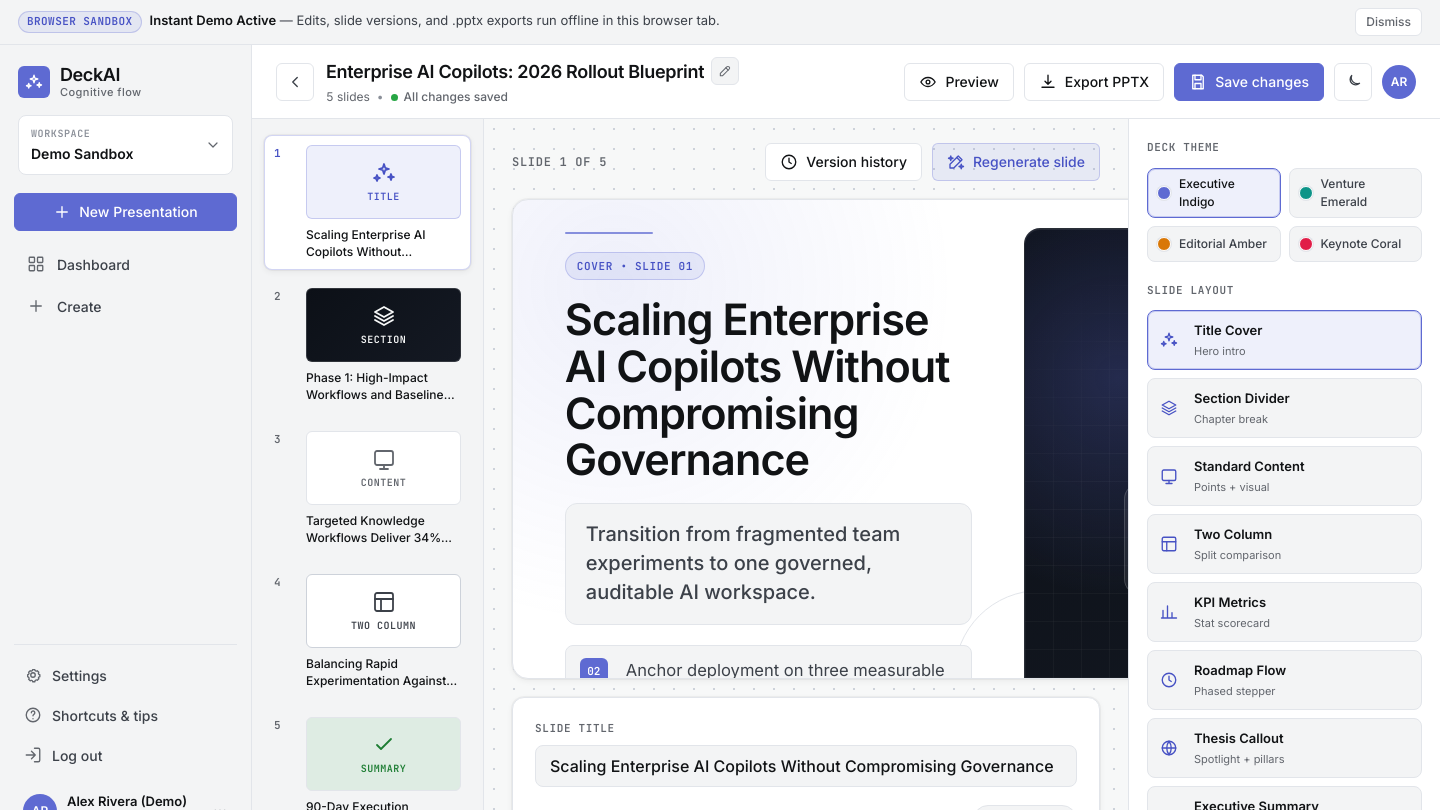
Test case: Task 4: Connected EditorPage, 5-Layout SlideCanvas & Workspace Polish › opens Version history, loads api.getSlideVersions, and restores a snapshot via api.restoreSlideVersion
This screenshot has width=1440, height=810.
Expected: the text "Enterprise AI Copilots: 2026 Rollout Blueprint" is shown, [326,58,704,84]
# Select Slide 3 which has pre-seeded version 1 in demoStore
Click the button "Targeted Knowledge Workflows Deliver 34% Faster Cycle Times".
click(368, 489)  # box [264,421,471,556]
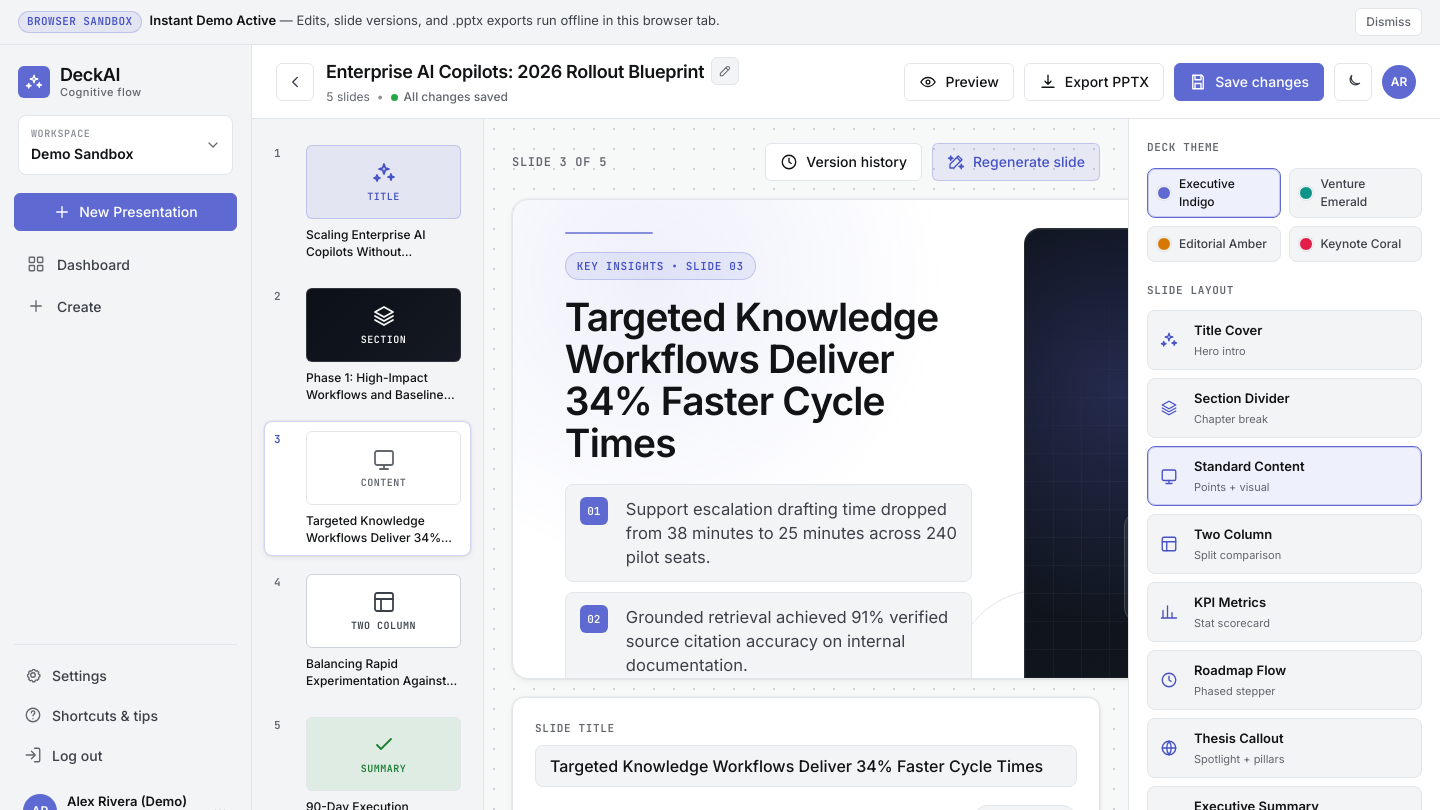
Expected: the field labelled "Slide title" holds "Targeted Knowledge Workflows Deliver 34% Faster Cycle Times", [535,744,1077,786]
Click the button "Version history".
click(844, 162)  # box [765,143,922,181]
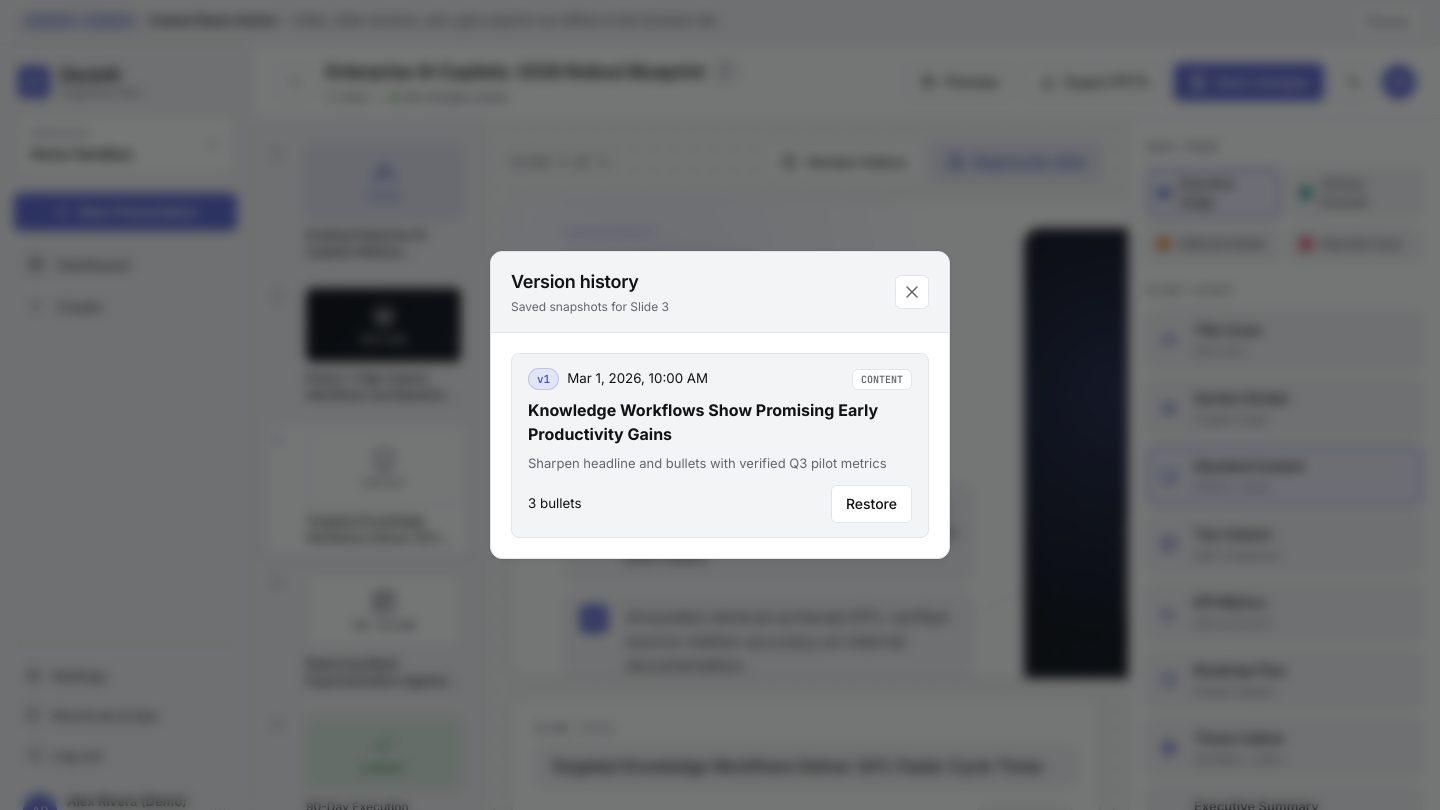
Expected: the text "Knowledge Workflows Show Promising Early Productivity Gains" is shown, [528,398,912,446]
Click the button "Restore".
click(871, 504)  # box [831,485,912,523]
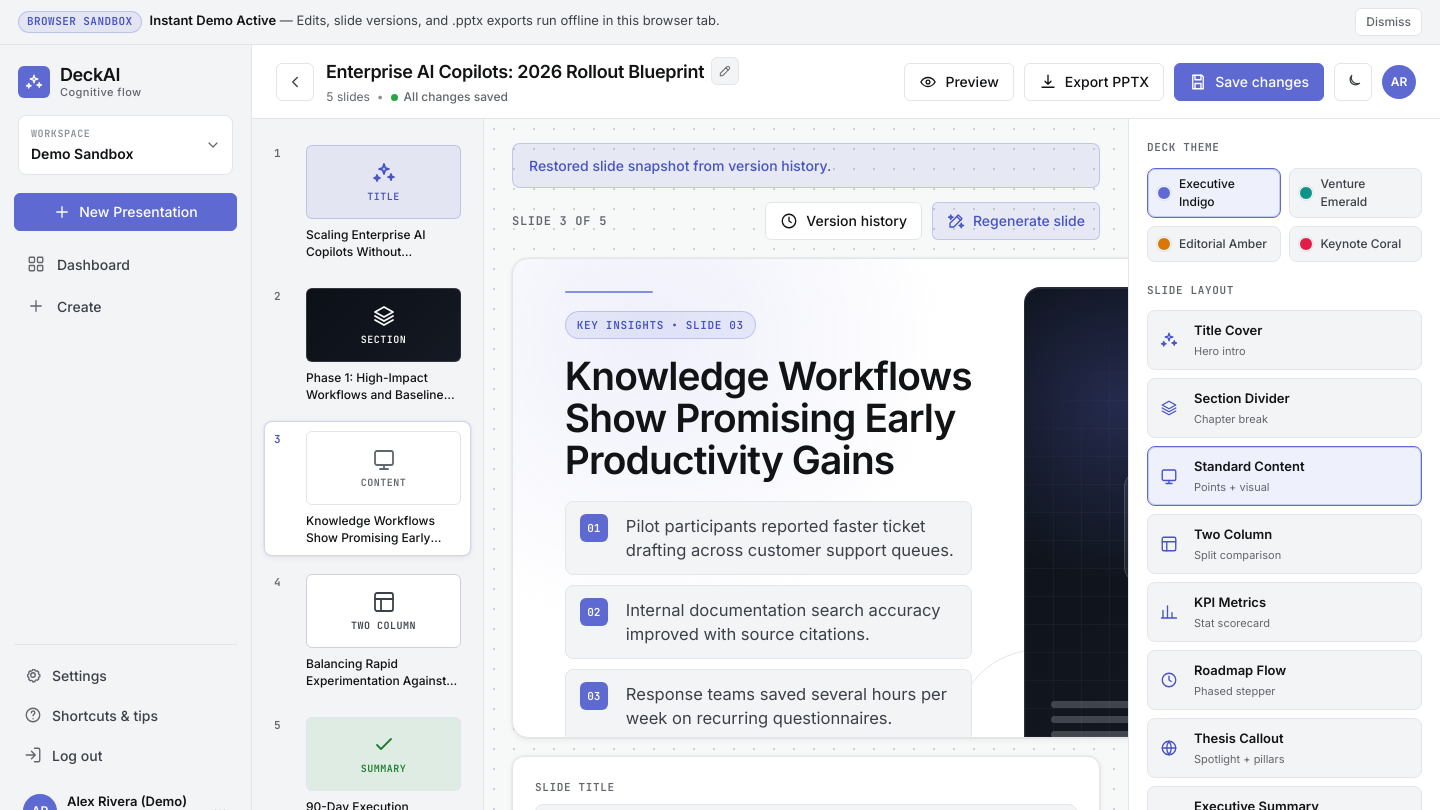
Expected: the heading "Knowledge Workflows Show Promising Early Productivity Gains" is shown, [565,355,972,481]
